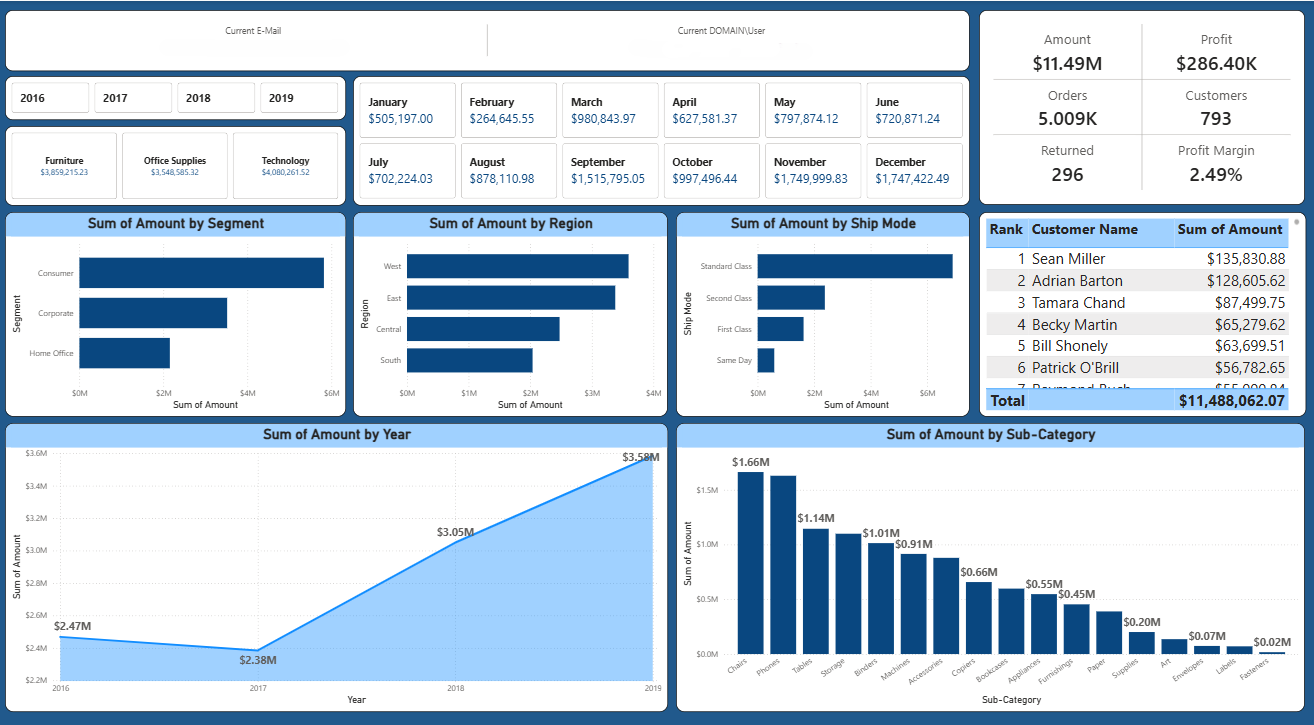

What the dashboard file says about the page in this screenshot:
{"tool":"powerbi","page":{"name":"Page 1","canvas":[2000,1100],"ordinal":0},"visuals":[{"type":"cardVisual","fields":{"Data":["People.Current E-Mail","People.Current DOMAIN\\User"]},"box":[10.6,13.7,1465.5,92.6],"z":0},{"type":"cardVisual","fields":{"Data":["Sum(Orders.Amount)","Sum(Orders.Profit)","Count(Orders.Order ID)","Count(Orders.Customer ID)","CountNonNull(Returns.Returned)","People.Profit Margin"]},"box":[1489.7,13.7,495.1,296.1],"z":1000},{"type":"advancedSlicerVisual","fields":{"Values":["Date Table.Year"]},"box":[10.6,113.9,517.8,66.8],"z":2000},{"type":"advancedSlicerVisual","fields":{"Values":["Date Table.Hierarchy.Month Name"],"Label":["Sum(Orders.Amount)"]},"box":[539.1,113.9,937,197.4],"z":3000},{"type":"clusteredBarChart","fields":{"Category":["Orders.Segment"],"Y":["Sum(Orders.Amount)"]},"box":[10.6,320.4,517.8,311.3],"z":4000},{"type":"clusteredBarChart","fields":{"Category":["People.Region"],"Y":["Sum(Orders.Amount)"]},"box":[539.1,320.4,478.4,311.3],"z":5000},{"type":"clusteredBarChart","fields":{"Category":["Orders.Ship Mode"],"Y":["Sum(Orders.Amount)"]},"box":[1029.6,320.4,446.5,311.3],"z":6000},{"type":"advancedSlicerVisual","fields":{"Values":["Orders.Category"],"Label":["Sum(Orders.Amount)"]},"box":[10.6,189.8,517.8,121.5],"z":7000},{"type":"tableEx","fields":{"Values":["Orders.Rank","Orders.Customer Name","Sum(Orders.Amount)"]},"box":[1489.7,320.4,496.6,311.3],"z":8000},{"type":"areaChart","fields":{"Category":["Date Table.Hierarchy.Year","Date Table.Hierarchy.Quarter","Date Table.Hierarchy.Month Name","Date Table.Hierarchy.Day Name"],"Y":["Sum(Orders.Amount)"]},"box":[10.6,640.9,1006.8,438.9],"z":9000},{"type":"clusteredColumnChart","fields":{"Category":["Orders.Sub-Category"],"Y":["Sum(Orders.Amount)"]},"box":[1029.6,640.9,955.2,438.9],"z":10000}]}

Visuals, with their boxes in screenshot pixels (x1, y1, x2, y2), scaled from the page's 2000x1100 canvas onto the 1314x725 screenshot:
cardVisual - People.Current E-Mail x People.Current DOMAIN\User: x1=7, y1=9, x2=970, y2=70
cardVisual - Sum(Orders.Amount) x Sum(Orders.Profit): x1=979, y1=9, x2=1304, y2=204
advancedSlicerVisual - Date Table.Year: x1=7, y1=75, x2=347, y2=119
advancedSlicerVisual - Date Table.Hierarchy.Month Name x Sum(Orders.Amount): x1=354, y1=75, x2=970, y2=205
clusteredBarChart - Orders.Segment x Sum(Orders.Amount): x1=7, y1=211, x2=347, y2=416
clusteredBarChart - People.Region x Sum(Orders.Amount): x1=354, y1=211, x2=668, y2=416
clusteredBarChart - Orders.Ship Mode x Sum(Orders.Amount): x1=676, y1=211, x2=970, y2=416
advancedSlicerVisual - Orders.Category x Sum(Orders.Amount): x1=7, y1=125, x2=347, y2=205
tableEx - Orders.Rank x Orders.Customer Name: x1=979, y1=211, x2=1305, y2=416
areaChart - Date Table.Hierarchy.Year x Date Table.Hierarchy.Quarter: x1=7, y1=422, x2=668, y2=712
clusteredColumnChart - Orders.Sub-Category x Sum(Orders.Amount): x1=676, y1=422, x2=1304, y2=712
